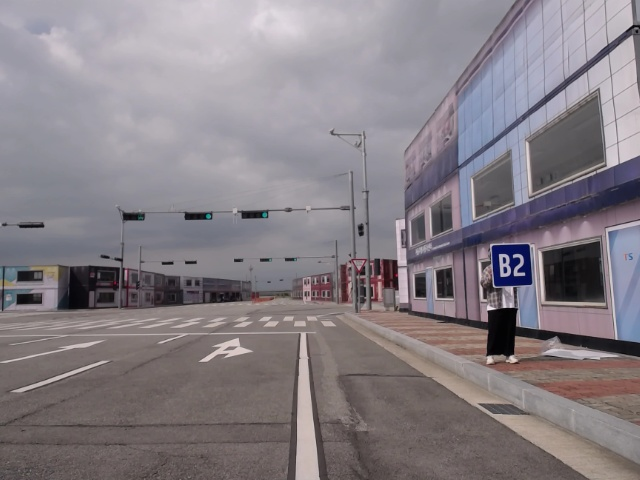delivery_b2: (488, 241, 536, 289)
straight_green_4: (182, 210, 217, 222), (241, 208, 270, 220), (259, 257, 275, 264), (285, 256, 299, 263)
